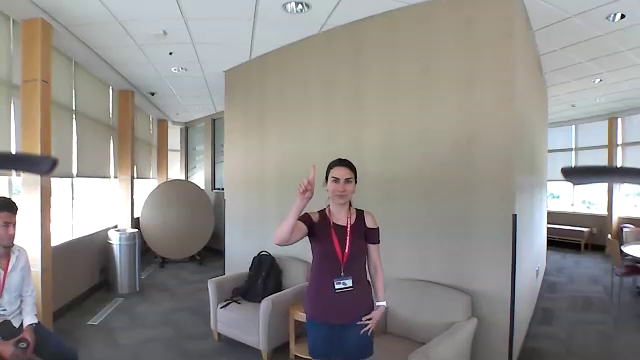up: (295, 161, 320, 205)
